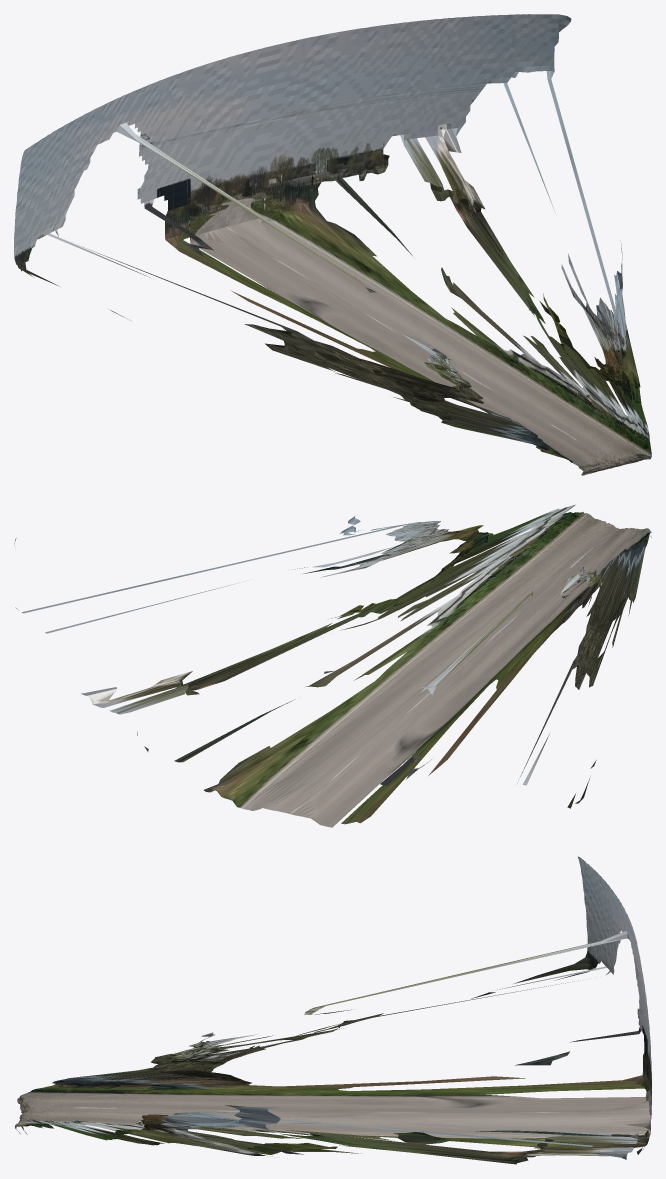
The picture shows the model from 3 angles, top to bottom: view 1: azimuth 30°, elevation 25°; view 2: azimuth 150°, elevation 25°; view 3: azimuth 270°, elevation 25°; orthographic projection. The views are drawn at different scales.
Visible parts, largest first — view 1: defaultobject; view 2: defaultobject; view 3: defaultobject.
Part boxes in pixels (bbox=[...]): defaultobject: bbox=[14, 14, 651, 475]; defaultobject: bbox=[14, 504, 651, 827]; defaultobject: bbox=[15, 856, 651, 1164].
Bounding box in the file's own units: 39.86 × 12.56 × 44.52.
1 material, 1 textured.
